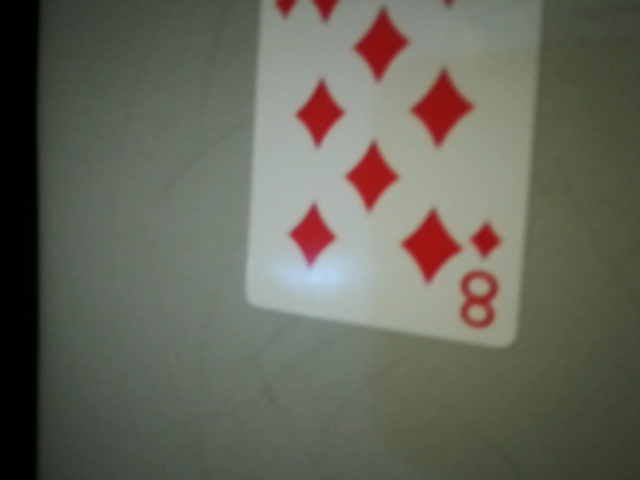fk 8: (448, 212, 518, 342)
